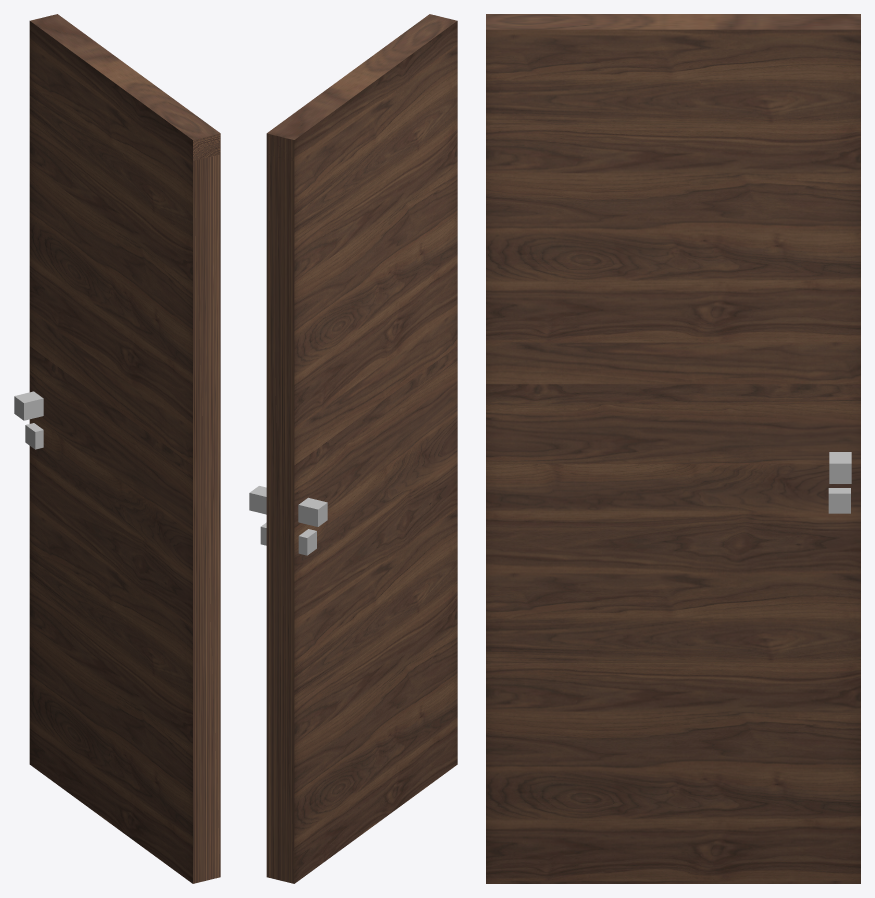
Rendered from hoofddeur.fbx.
3 renders of one model, left to right at view 1: azimuth 30°, elevation 25°; view 2: azimuth 150°, elevation 25°; view 3: azimuth 270°, elevation 25°, orthographic. The views are drawn at different scales.
Visible parts, largest first — view 1: deur; view 2: deur; view 3: deur.
Boxes of the visible parts, x1=… form: deur: x1=14, y1=14, x2=220, y2=883; deur: x1=249, y1=14, x2=457, y2=883; deur: x1=486, y1=14, x2=860, y2=883.
Bounding box in the file's own units: 70.6 × 731 × 290.
